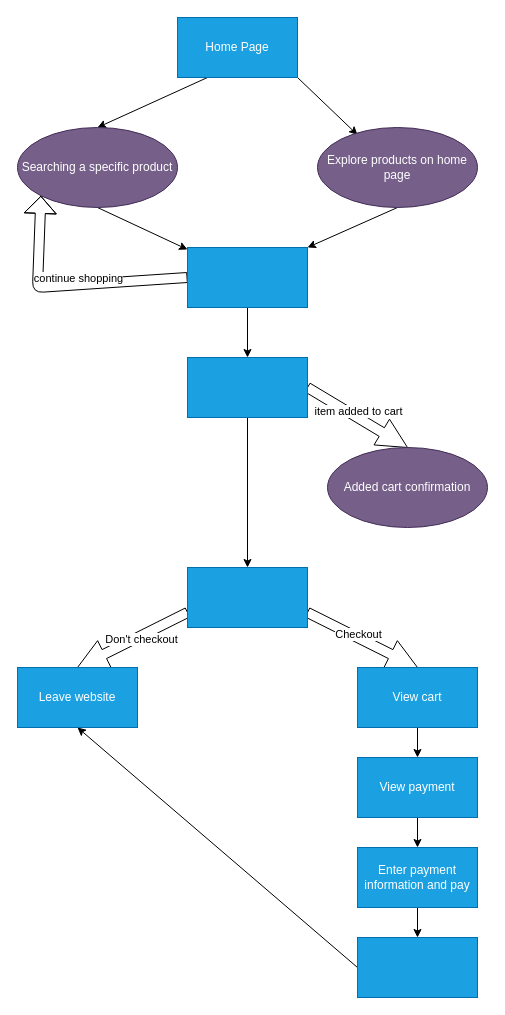
Some shapes in this 505 by 1015 pixel diagram are drawn without their labels. Each missing label, with the centre of its shape:
"Confirmation screen and confirmation email sent" goes at [417,967].
"Looking over products" goes at [247,277].
"Stop shopping" goes at [247,597].
"View specific product" goes at [247,387].
